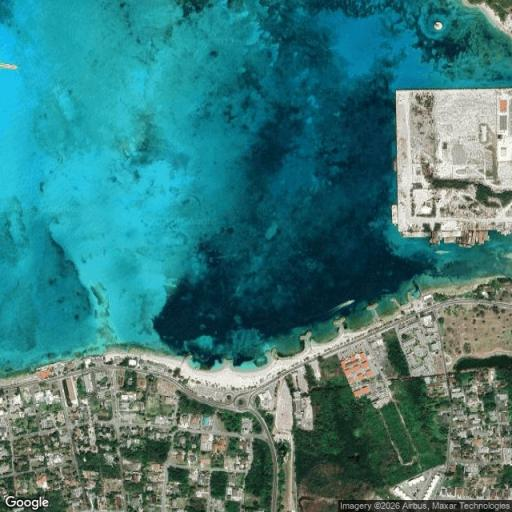ship: (330, 300, 354, 313), (402, 231, 431, 238), (391, 205, 398, 225), (477, 231, 486, 244), (0, 63, 17, 69), (466, 230, 472, 246), (392, 156, 397, 173), (475, 231, 480, 244)
